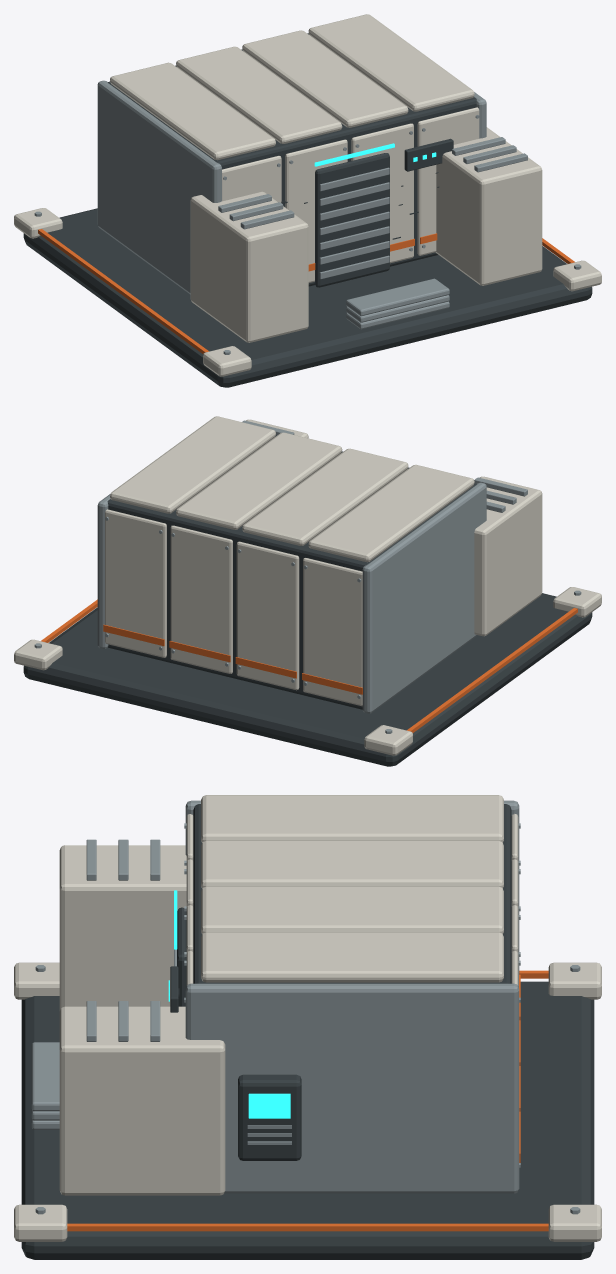
File: SM_MachineShop_Body.fbx
3 views of the same model, one above another, from view 1: azimuth 30°, elevation 25°; view 2: azimuth 150°, elevation 25°; view 3: azimuth 270°, elevation 25° (orthographic). The views are drawn at different scales.
Visible parts, largest first — view 1: SM_MachineShop_Body; view 2: SM_MachineShop_Body; view 3: SM_MachineShop_Body.
Part boxes in pixels (box(x1,y1,x2,y2)): SM_MachineShop_Body: box(14, 14, 601, 387); SM_MachineShop_Body: box(14, 416, 601, 766); SM_MachineShop_Body: box(14, 795, 601, 1259).
Size of the model in its own units: 492 by 462 by 219.
